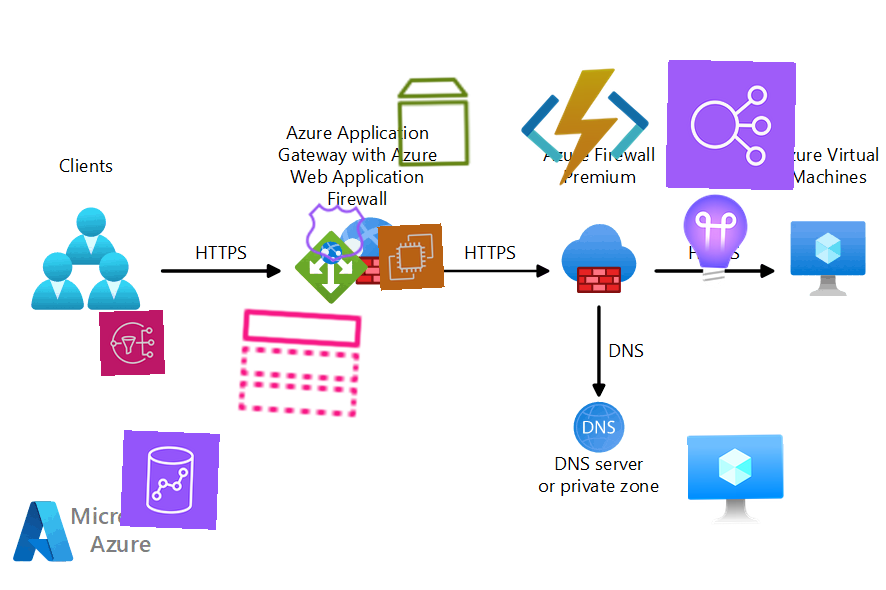aws_amazon_ec2: (377, 223, 445, 291)
aws_amazon_redshift: (120, 430, 220, 530)
aws_amazon_simple_notification_service: (99, 310, 165, 376)
aws_elastic_block_store_volume: (385, 73, 483, 171)
aws_elastic_load_balancing: (665, 59, 797, 191)
aws_route_53_hosted_zone: (301, 198, 371, 268)
aws_simple_notification_service_topic: (232, 295, 368, 431)
azure_application_insights: (665, 190, 765, 290)
azure_function_apps: (517, 59, 653, 195)
azure_virtual_machine: (687, 433, 785, 531)
